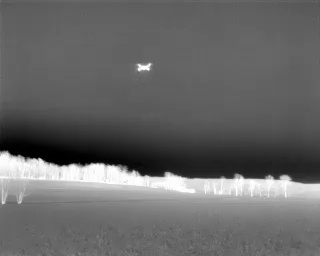DRONE: (133, 58, 156, 77)
